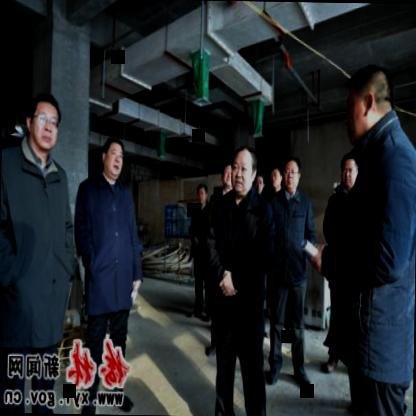head: (343, 62, 397, 146), (25, 90, 66, 152), (228, 140, 257, 197), (100, 134, 124, 182), (337, 150, 361, 194), (281, 151, 302, 193), (192, 178, 210, 210), (266, 163, 283, 195), (219, 158, 234, 192), (254, 168, 266, 200)
